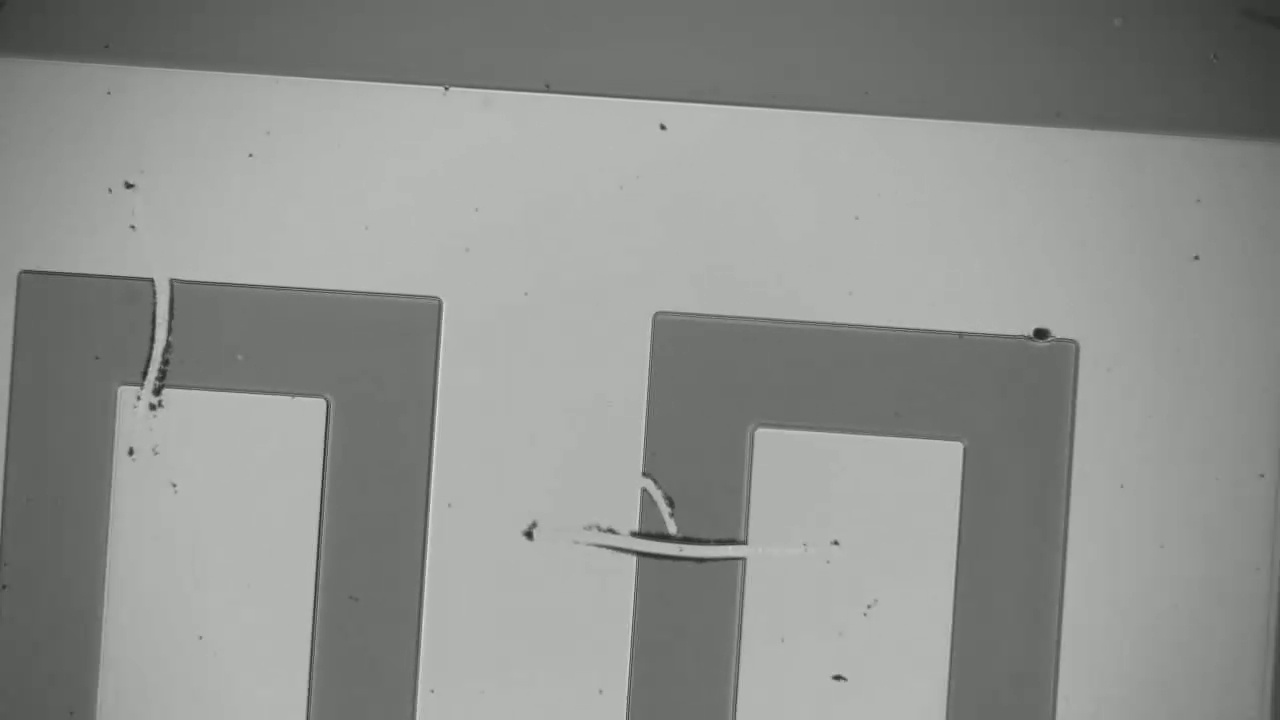Short_circuit: (602, 511, 771, 584), (124, 242, 189, 413)
